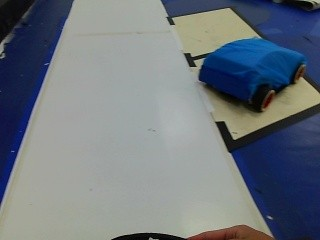car: (192, 32, 309, 118)
